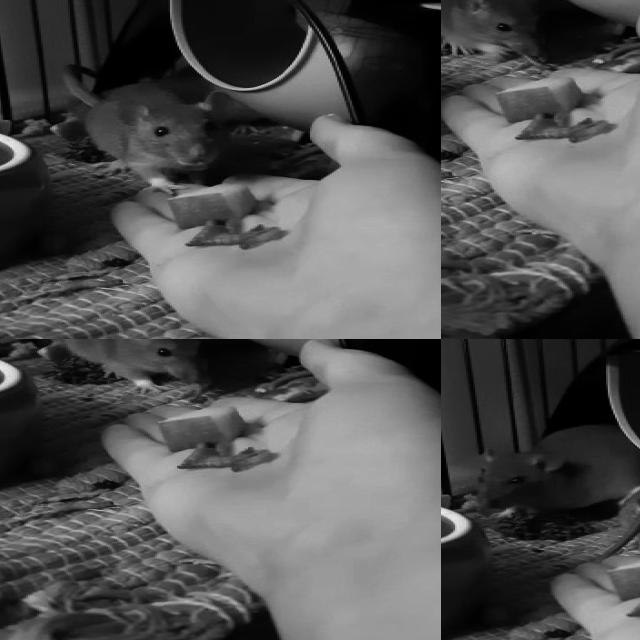rat: (87, 82, 240, 195), (472, 426, 640, 514), (49, 339, 219, 391), (441, 0, 552, 59)
